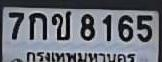1: (102, 14, 110, 40)
5: (136, 14, 151, 41)
6: (117, 14, 132, 41)
7: (8, 11, 23, 39)
8: (80, 13, 94, 40)
A01: (28, 12, 46, 39)
A10: (51, 10, 70, 39)
BKK: (25, 48, 136, 62)
